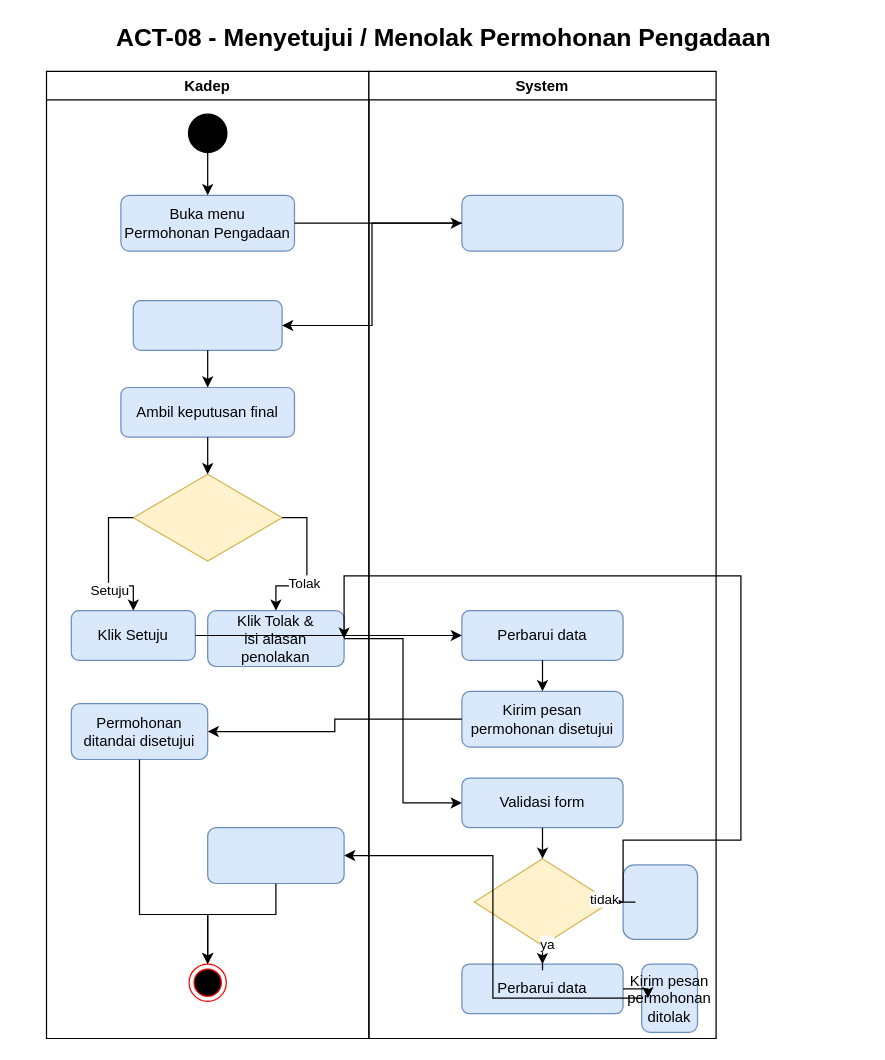
Some shapes in this 885 by 1060 pixel diagram are drawn without their labels. Here are the shapes that lost their labels. From the top down, the centre of each, then its label:
point 542,222: Tampilkan daftar permohonan
point 207,324: Pilih permohonan
point 207,517: Keputusan?
point 275,855: Permohonan ditandai ditolak
point 542,901: Form valid?
point 660,901: Tampilkan pesan kesalahan
